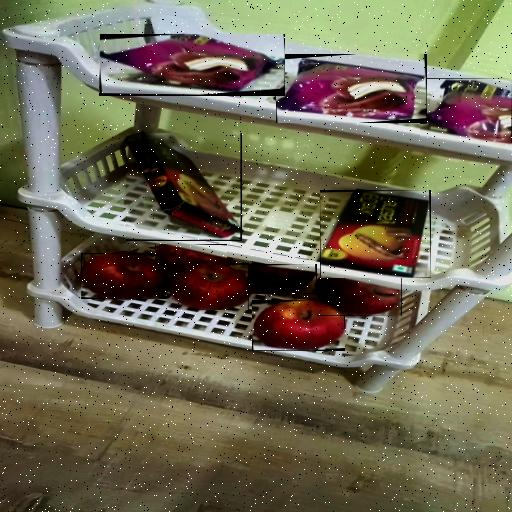Apple: (252, 300, 345, 351), (81, 253, 169, 299), (167, 263, 249, 310), (317, 278, 402, 316), (248, 264, 317, 294), (155, 244, 227, 272)
Choco Fills: (126, 133, 242, 241), (320, 190, 431, 278)
Choco Pie: (98, 34, 284, 96), (276, 54, 427, 123), (420, 78, 512, 142)
